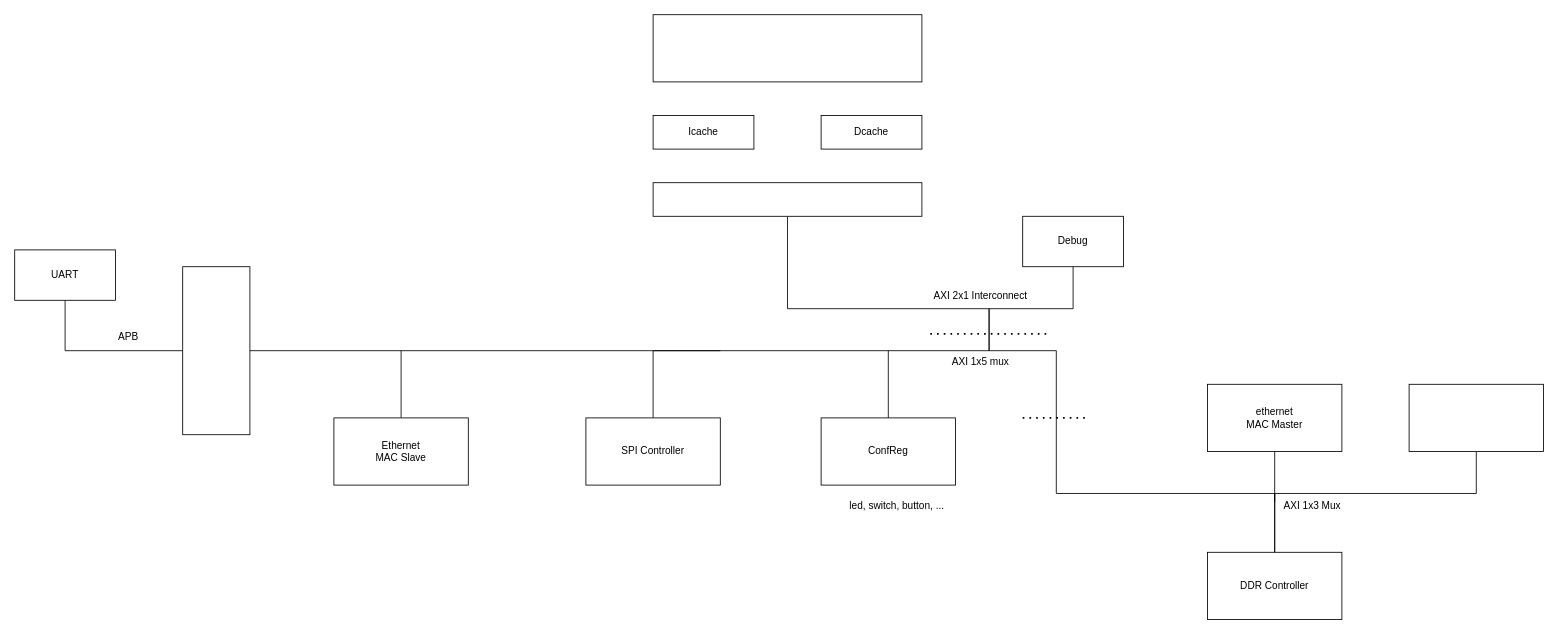
The diagram is 1558 pixels wide and 634 high, and some of its shapes have lost their labels. Each missing label, with the centre of its shape:
"AXI2APB" belongs at (x=216, y=350).
"DMA Control" belongs at (x=1476, y=417).
"Pipeline" belongs at (x=787, y=48).
"SAXI-AXI4 Crossbar" belongs at (x=787, y=199).
